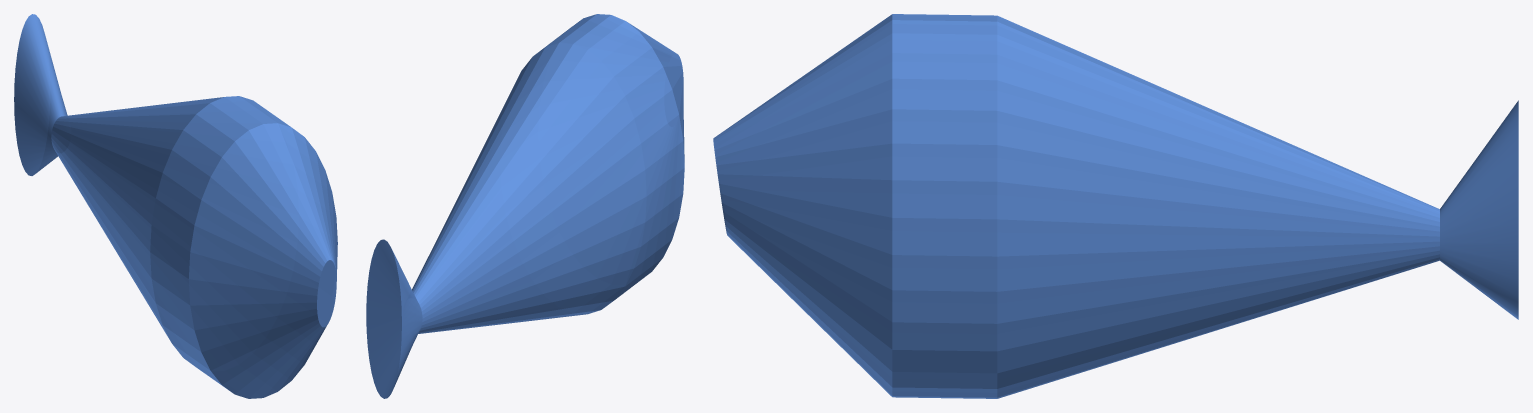
The model's file is ConeBoid2.fbx.
3 views of the same model, side by side, from view 1: azimuth 30°, elevation 25°; view 2: azimuth 150°, elevation 25°; view 3: azimuth 270°, elevation 25° (orthographic). The views are drawn at different scales.
Parts seen in each view (by area): view 1: Cone; view 2: Cone; view 3: Cone.
Part boxes in pixels (<box>): Cone: <box>14,14,337,398</box>; Cone: <box>366,14,684,398</box>; Cone: <box>713,14,1518,398</box>.
Size of the model in its own units: 114 by 201 by 393.
